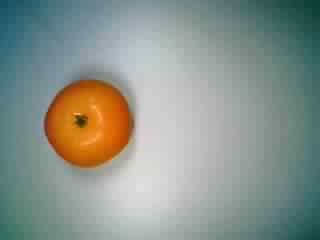orange: (39, 76, 136, 170)
